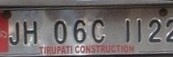character: (22, 19, 38, 45), (90, 18, 106, 44), (147, 17, 162, 43), (72, 17, 86, 43), (53, 19, 67, 44), (8, 21, 20, 45), (124, 18, 131, 43), (135, 17, 141, 43)
